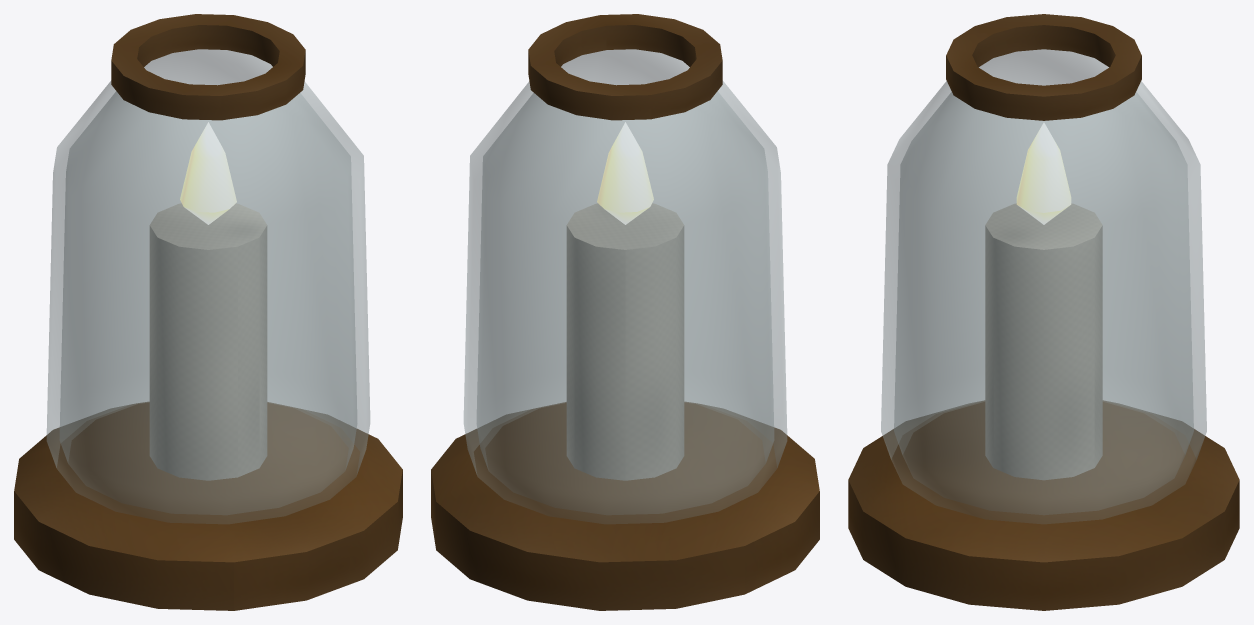
The model's file is Furn_Moment_CandleLamp.fbx.
3 renders of one model, left to right at view 1: azimuth 30°, elevation 25°; view 2: azimuth 150°, elevation 25°; view 3: azimuth 270°, elevation 25°, orthographic.
Visible parts, largest first — view 1: Furn_Moment_CandleLamp; view 2: Furn_Moment_CandleLamp; view 3: Furn_Moment_CandleLamp.
Part boxes in pixels (x1=…): Furn_Moment_CandleLamp: x1=14, y1=14, x2=402, y2=610; Furn_Moment_CandleLamp: x1=431, y1=14, x2=819, y2=610; Furn_Moment_CandleLamp: x1=848, y1=14, x2=1239, y2=610.
Bounding box in the file's own units: 0.3 × 0.4 × 0.3.
Materials: 4 (2 with a texture image).
